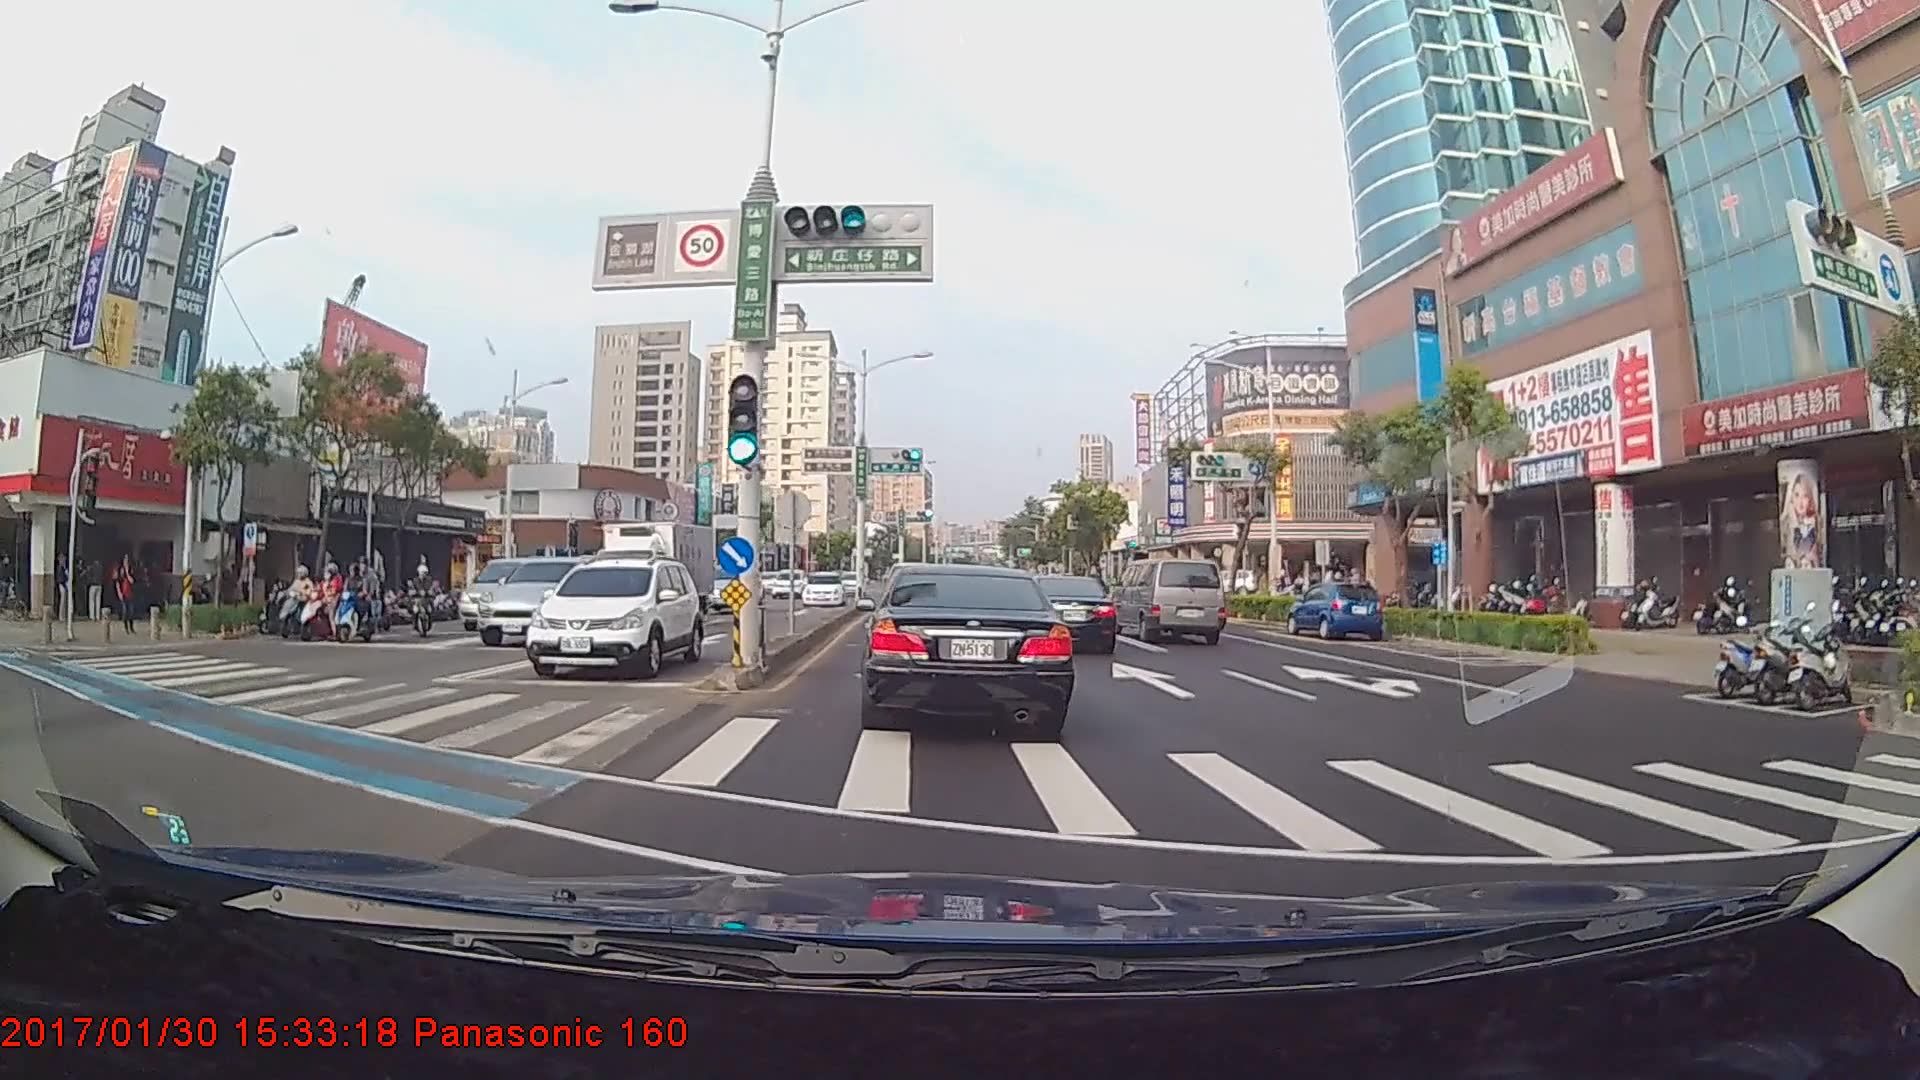pedestrian: (118, 555, 142, 639), (56, 554, 80, 629), (86, 554, 109, 625)
rider: (327, 561, 395, 652), (289, 565, 357, 647), (258, 561, 325, 637)
vehicle: (859, 561, 1072, 733), (528, 555, 700, 678), (579, 514, 719, 643), (475, 555, 603, 645), (1117, 556, 1227, 645), (1016, 582, 1117, 664), (1289, 580, 1386, 641), (703, 561, 767, 612), (801, 576, 842, 607), (773, 573, 801, 603)
